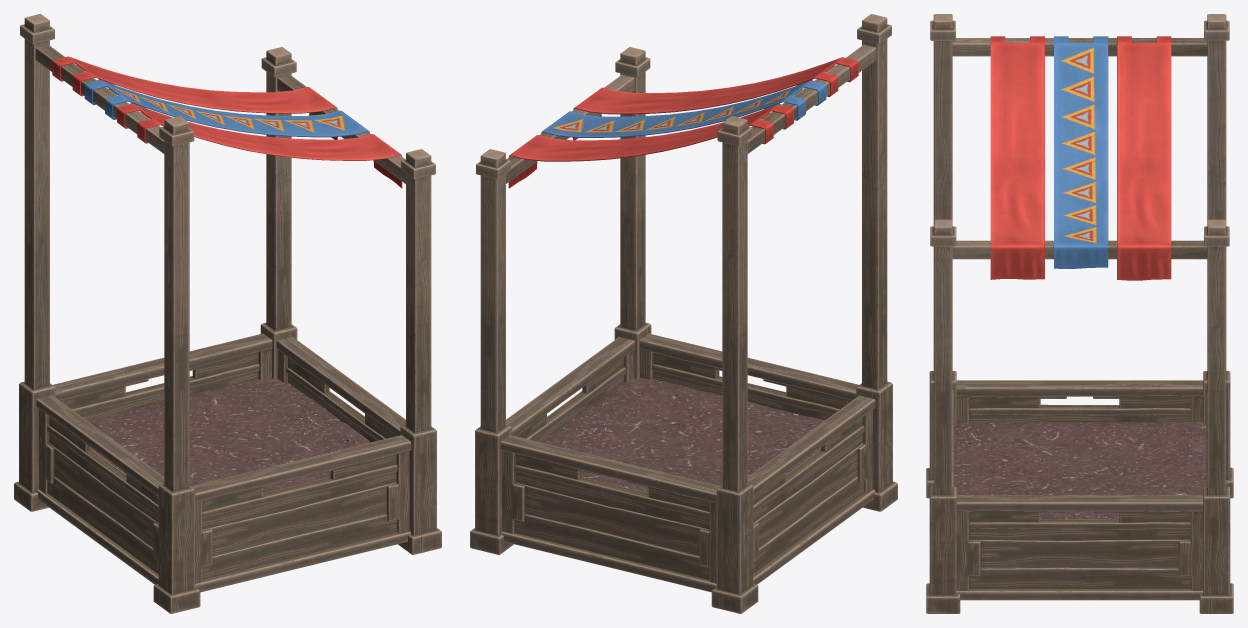
The picture shows the model from 3 angles, left to right: view 1: azimuth 30°, elevation 25°; view 2: azimuth 150°, elevation 25°; view 3: azimuth 270°, elevation 25°; orthographic projection. The views are drawn at different scales.
Parts seen in each view (by area): view 1: SM_Yew_Planter_01_LOD0; view 2: SM_Yew_Planter_01_LOD0; view 3: SM_Yew_Planter_01_LOD0.
Part boxes in pixels (bbox=[...]): SM_Yew_Planter_01_LOD0: bbox=[14, 14, 441, 613]; SM_Yew_Planter_01_LOD0: bbox=[470, 14, 897, 613]; SM_Yew_Planter_01_LOD0: bbox=[926, 14, 1233, 613].
Size of the model in its own units: 3.4 by 5.78 by 3.4.
Materials: 3 (3 with a texture image).
